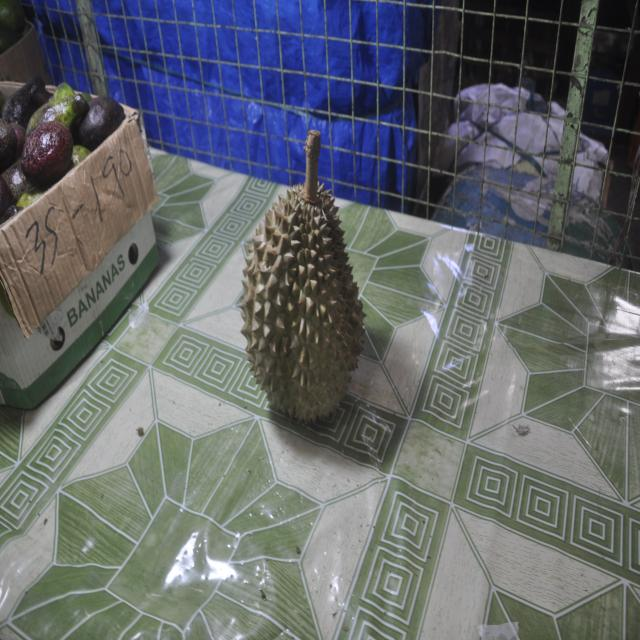mature: (240, 184, 365, 424)
